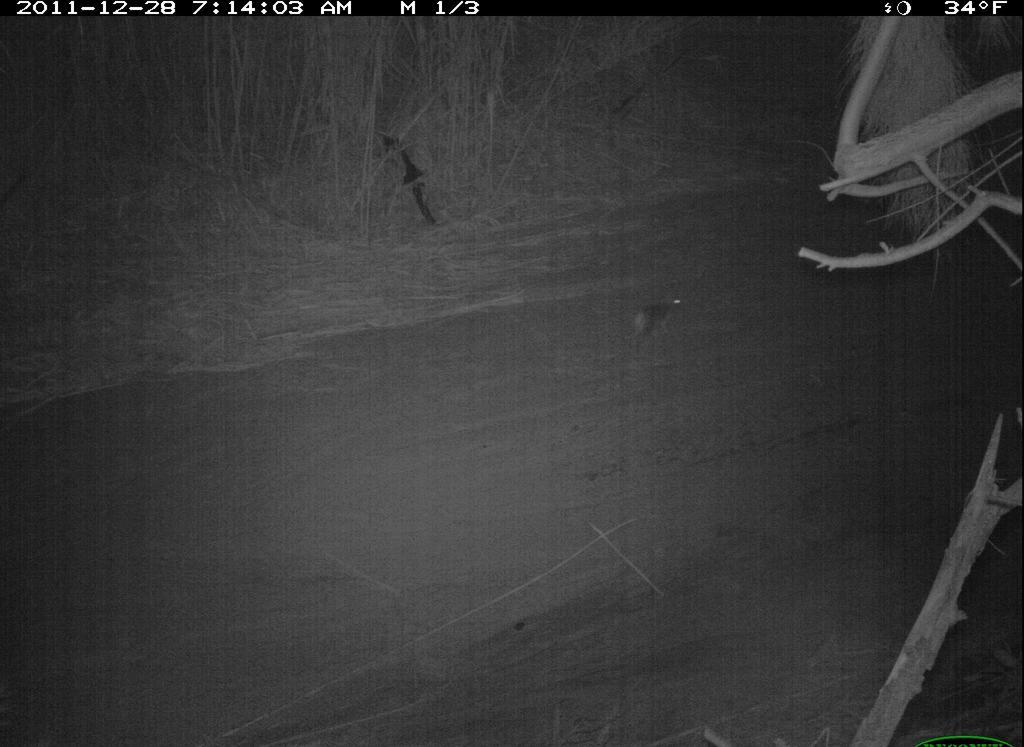rabbit: (616, 289, 685, 351)
